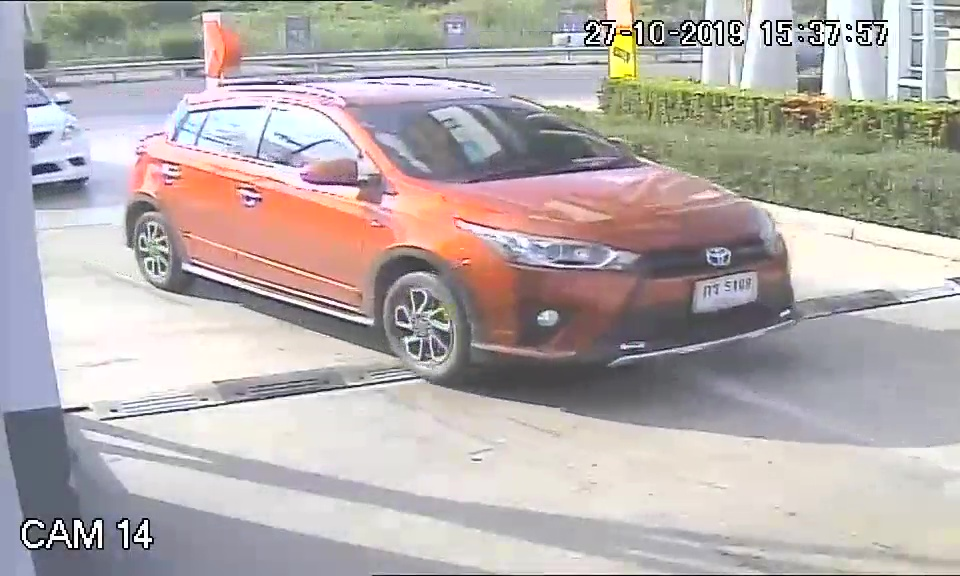sedan: (118, 76, 800, 387)
